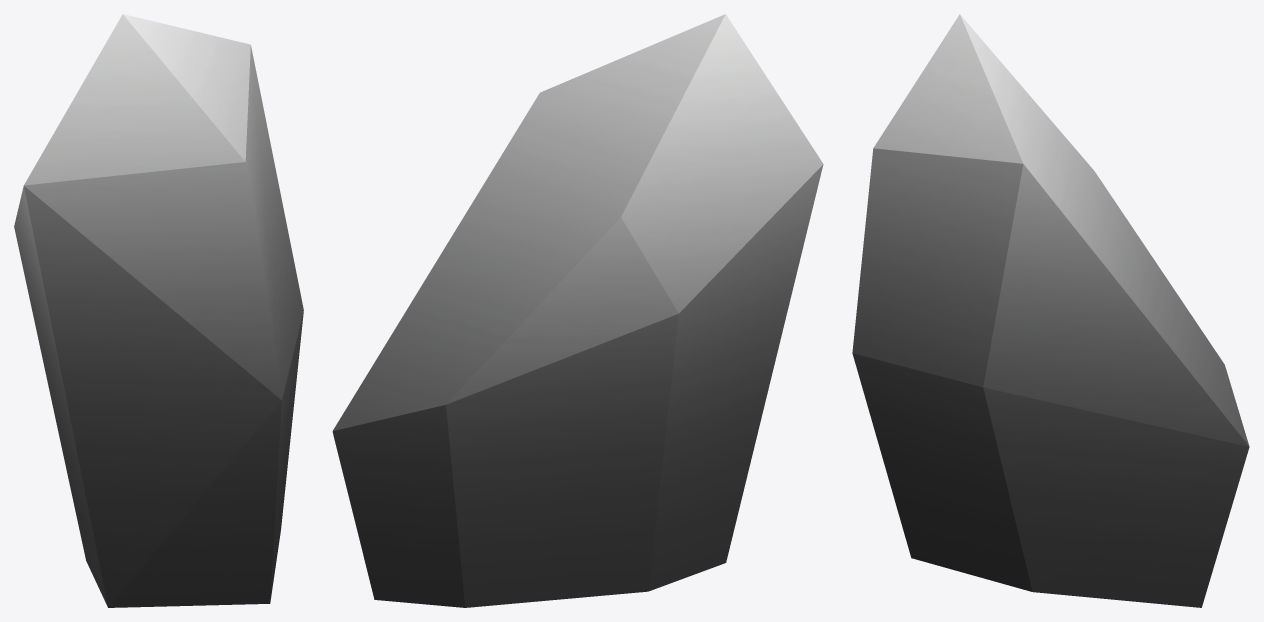
File: CrystalShard_E.fbx
The picture shows the model from 3 angles, left to right: view 1: azimuth 30°, elevation 25°; view 2: azimuth 150°, elevation 25°; view 3: azimuth 270°, elevation 25°; orthographic projection. The views are drawn at different scales.
Visible parts, largest first — view 1: CrystalShard_E; view 2: CrystalShard_E; view 3: CrystalShard_E.
Boxes of the visible parts, x1,y1,x2,y2 form: CrystalShard_E: [14, 14, 303, 607]; CrystalShard_E: [332, 14, 823, 607]; CrystalShard_E: [852, 14, 1249, 607].
Bounding box in the file's own units: 78.02 × 123 × 89.24.
Materials: 1 (1 with a texture image).
